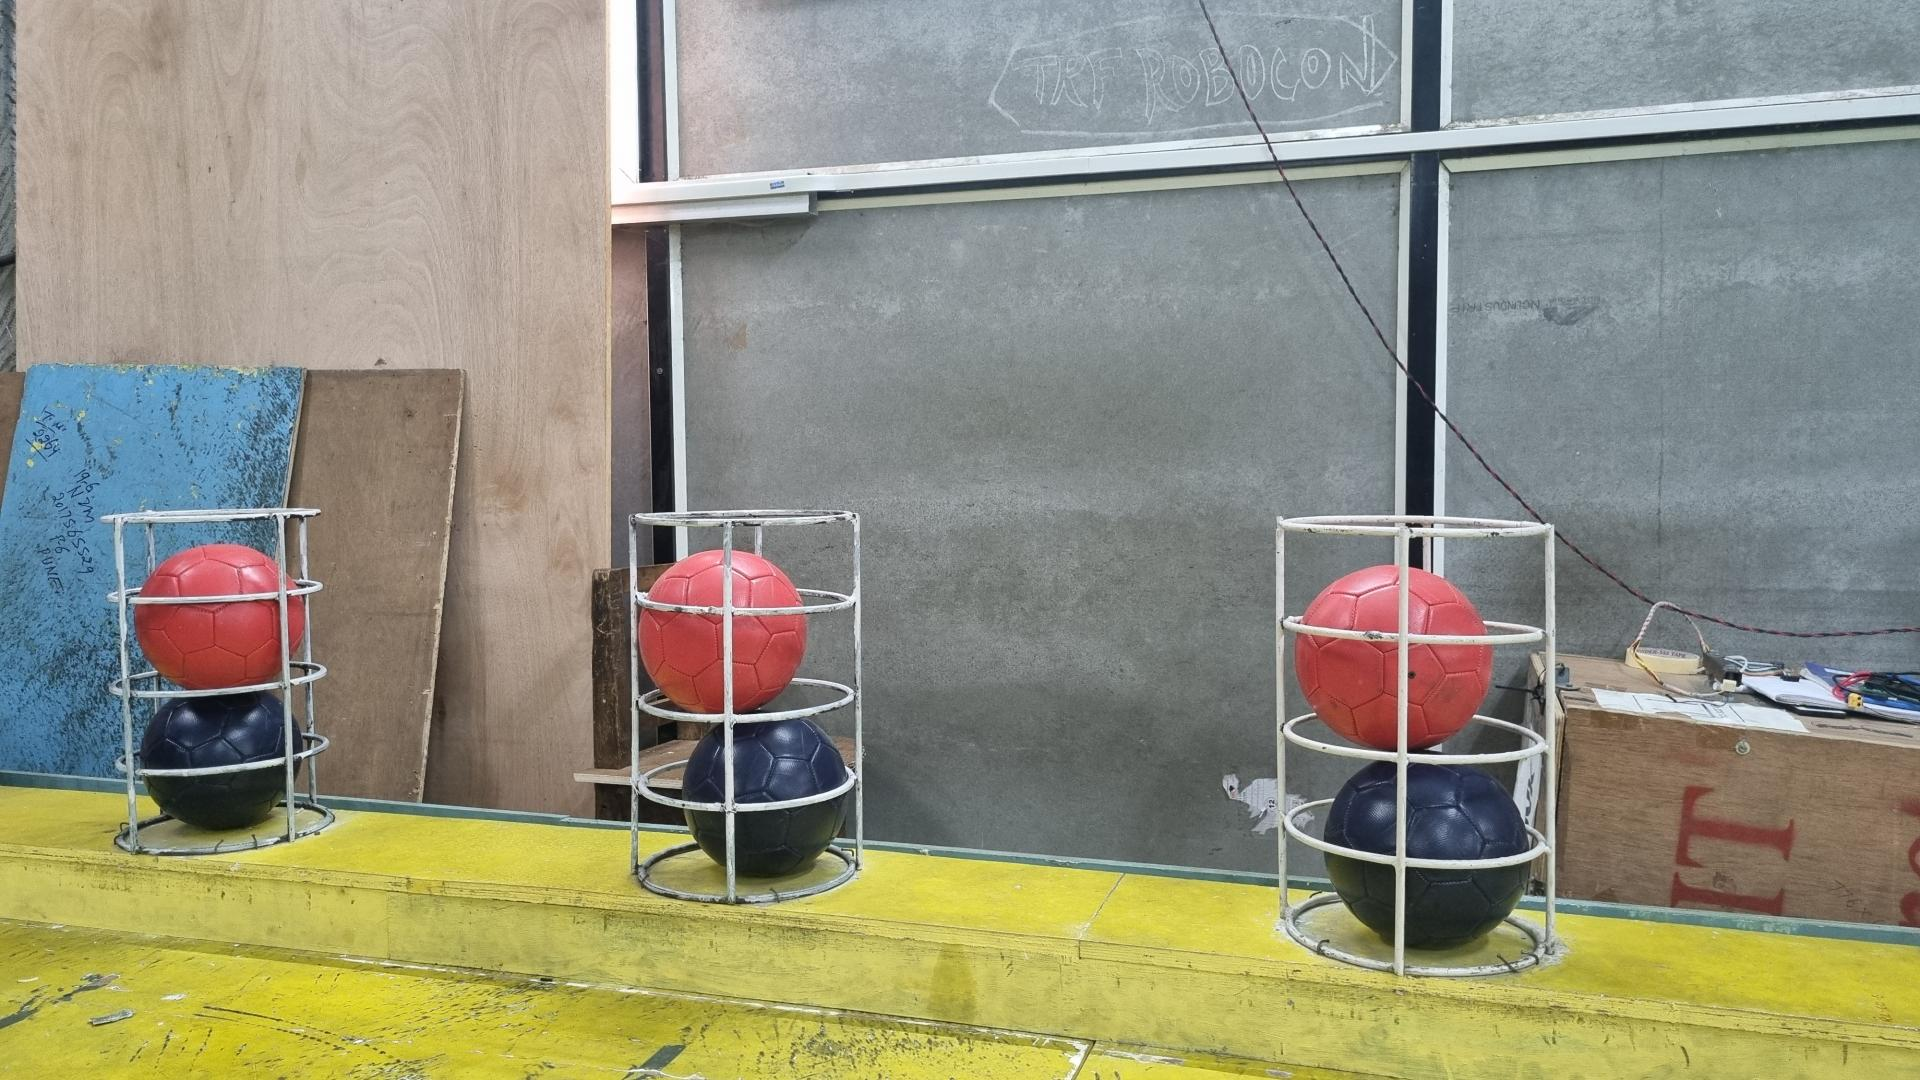dhoka: (1323, 760, 1528, 951), (680, 720, 853, 877), (137, 691, 302, 829)
laale: (1294, 563, 1495, 750), (638, 545, 811, 713), (137, 543, 309, 690)
